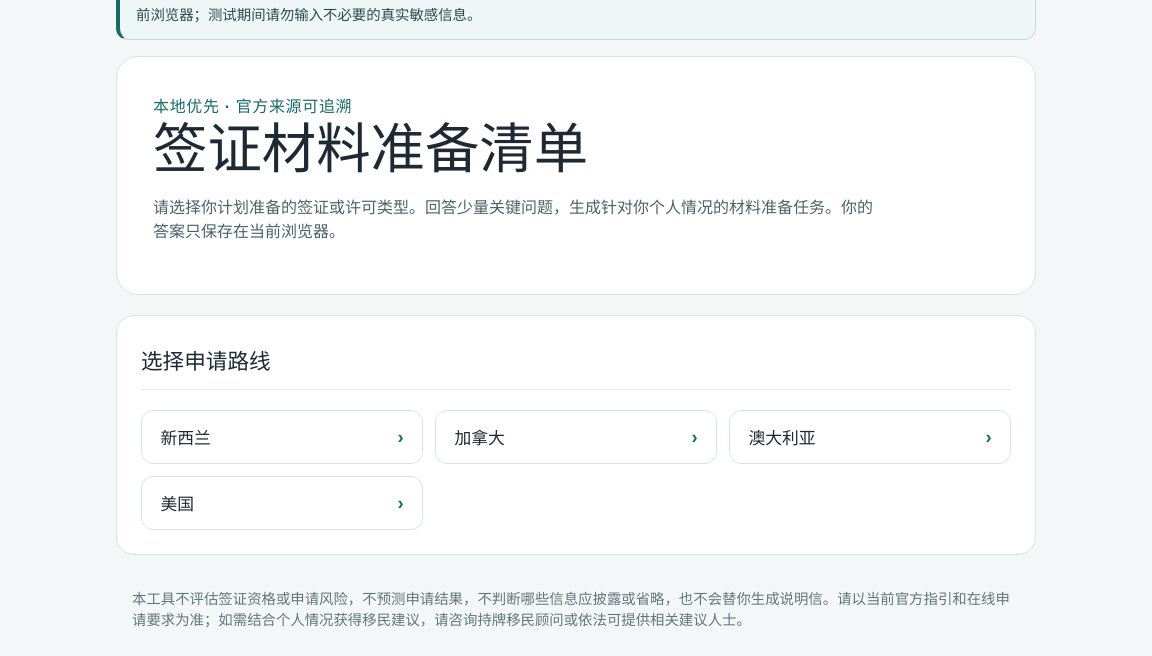
Test: App persistence hardening › Candidate 5 Slice 5C1 — Applicant Selection Flow and Bootstrap Isolation › 1. route selection alone does not persist an application or workspace
This screenshot has width=1152, height=656.
Click the button "新西兰 ›": (186, 438) [141,410,423,464]
(page scrolled)
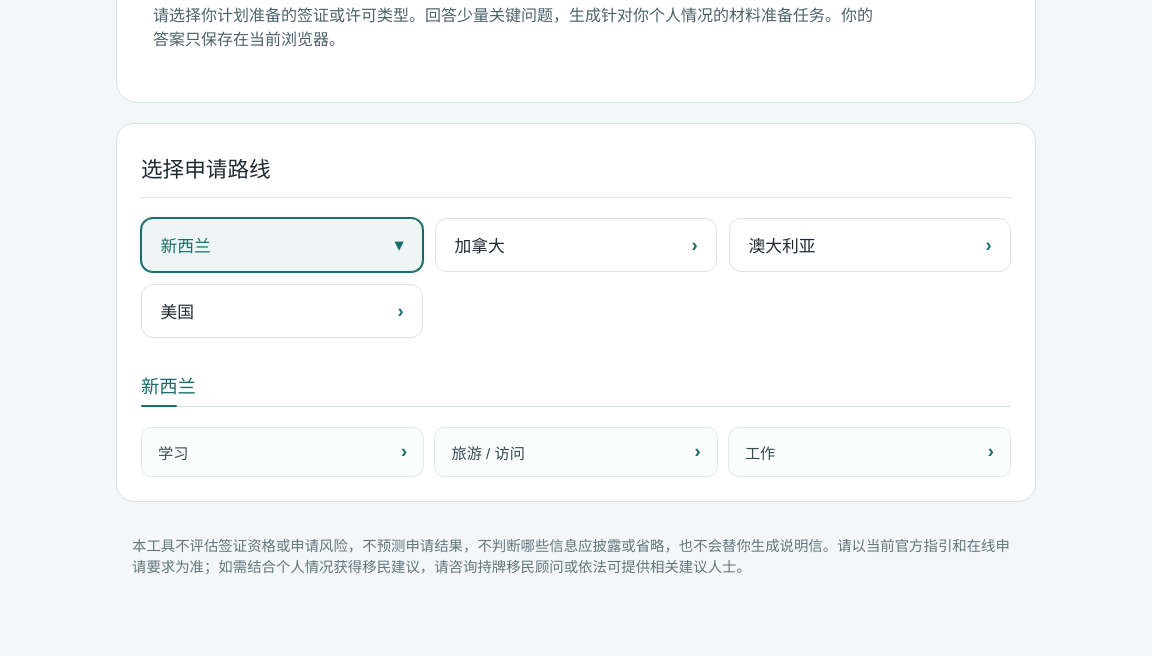
Click the button "学习 ›": (173, 453) [141,426,424,476]
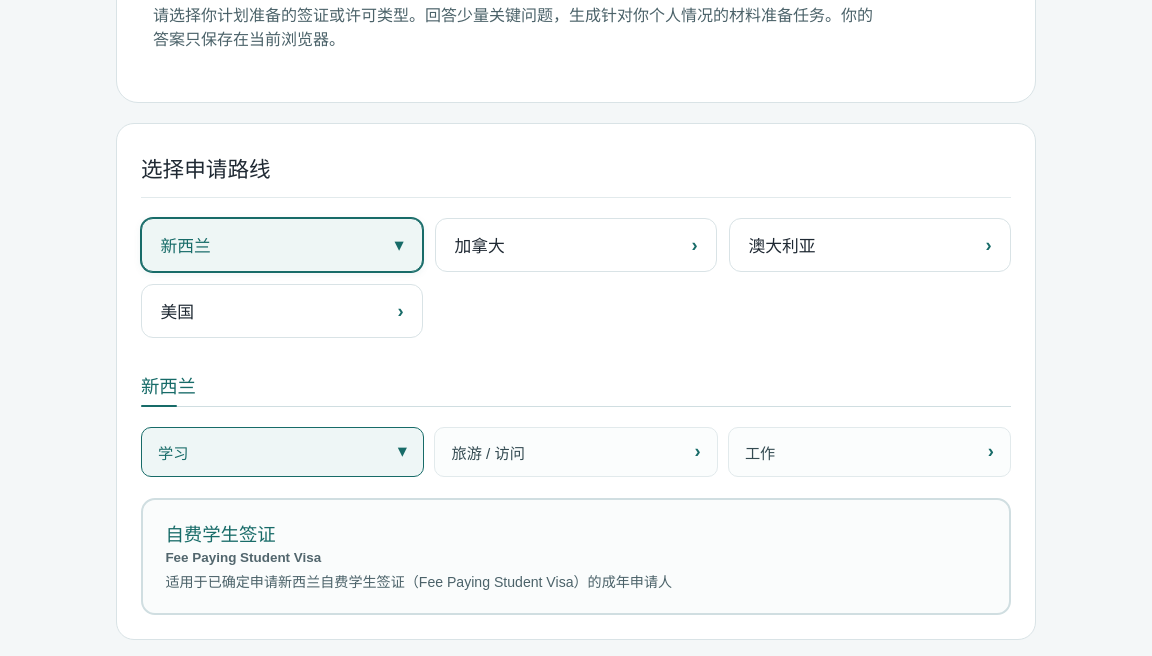
Click the button with aria-label "新西兰 · 学习 · 自费学生签证": (221, 535) [141,498,1011,615]
(page scrolled)
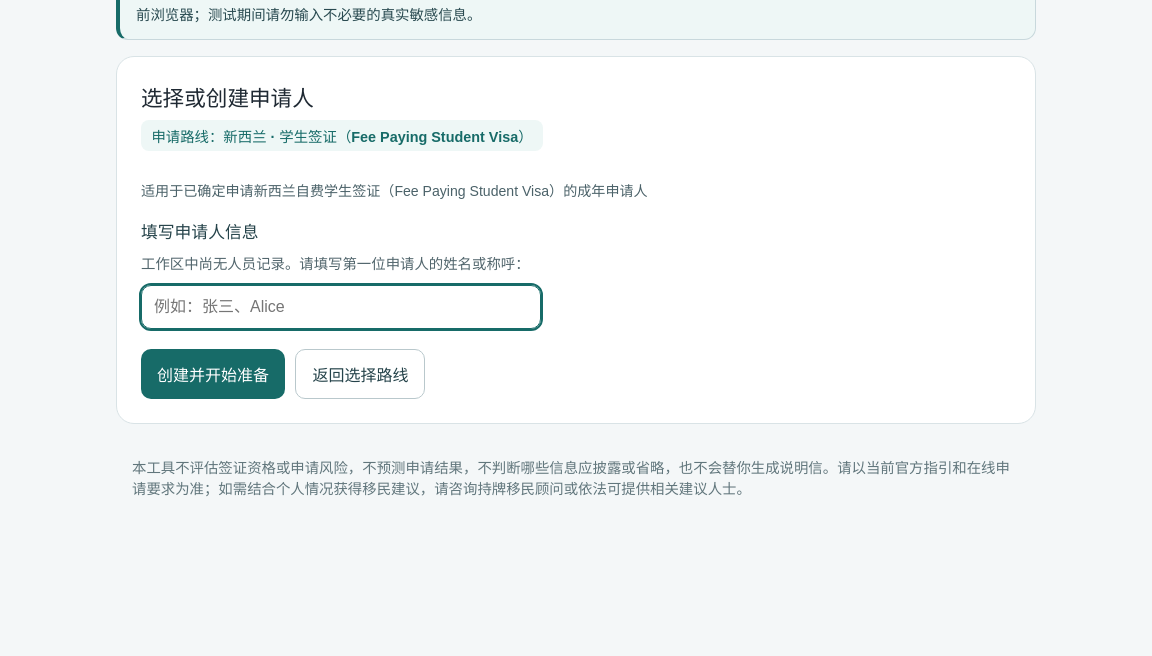
Result: the heading "选择或创建申请人" is shown at [141,86,314,111]
